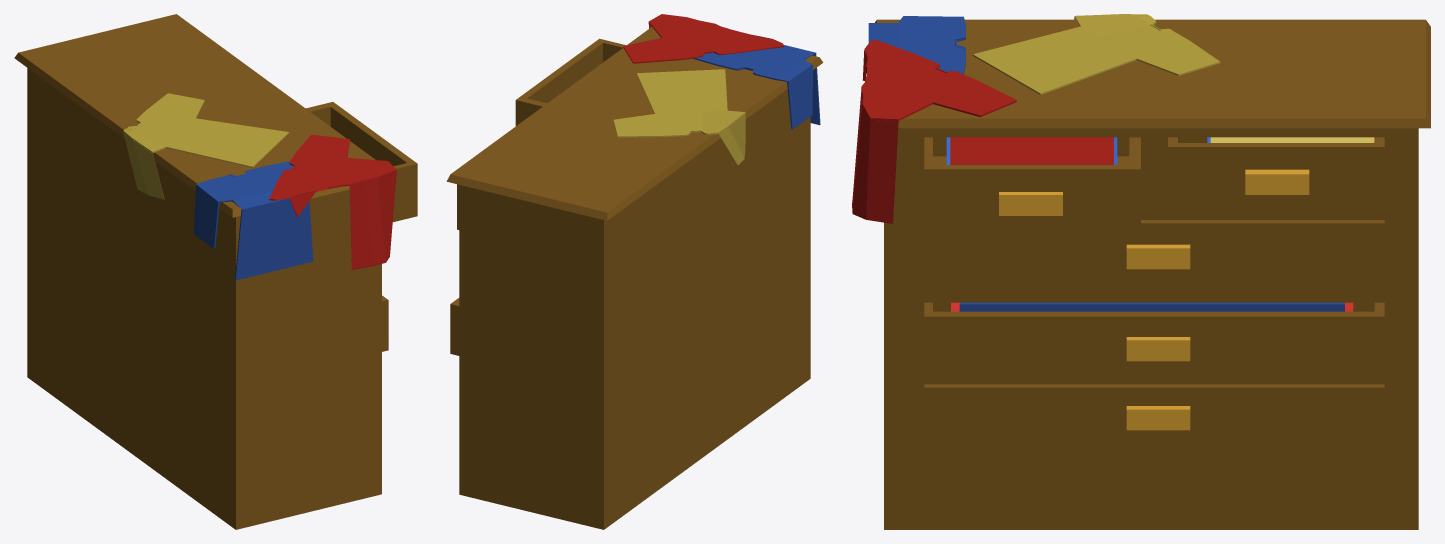
File: dresser_low_poly.glb
3 renders of one model, left to right at view 1: azimuth 30°, elevation 25°; view 2: azimuth 150°, elevation 25°; view 3: azimuth 270°, elevation 25°, orthographic. The views are drawn at different scales.
Parts seen in each view (by area): view 1: Cube.002_1, Cube_11, Cube.005_13, Cube.012_14; view 2: Cube.002_1, Cube.012_14, Cube.005_13, Cube_11; view 3: Cube.002_1, Cube.005_13, Cube.012_14, Cube.003_2, Cube.006_4, Cube_11, Cube.010_9, Cube.009_8, Cube.007_5, Cube.008_7, Cube.011_10, Cube.004_3.
Part boxes in pixels (bbox=[...]): Cube.002_1: bbox=[14, 14, 417, 529]; Cube_11: bbox=[194, 161, 313, 280]; Cube.005_13: bbox=[269, 134, 396, 270]; Cube.012_14: bbox=[123, 93, 289, 199]; Cube.002_1: bbox=[446, 27, 823, 529]; Cube.012_14: bbox=[613, 69, 745, 165]; Cube.005_13: bbox=[623, 14, 783, 63]; Cube_11: bbox=[693, 45, 820, 129]; Cube.002_1: bbox=[875, 19, 1430, 529]; Cube.005_13: bbox=[852, 39, 1016, 223]; Cube.012_14: bbox=[972, 14, 1220, 94]; Cube.003_2: bbox=[946, 137, 1117, 164]; Cube.006_4: bbox=[951, 302, 1353, 311]; Cube_11: bbox=[868, 16, 965, 74]; Cube.010_9: bbox=[1245, 169, 1309, 194]; Cube.009_8: bbox=[1126, 244, 1190, 269]; Cube.007_5: bbox=[1126, 406, 1190, 430]; Cube.008_7: bbox=[1126, 337, 1190, 361]; Cube.011_10: bbox=[999, 192, 1062, 215]; Cube.004_3: bbox=[1207, 137, 1374, 142].
Bounding box in the file's own units: 0.6692 × 0.9726 × 1.22.
